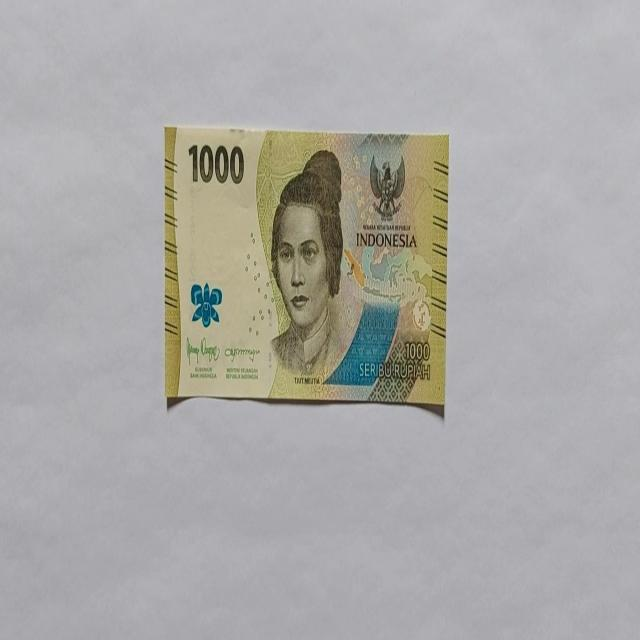seribu rupiah kertas: (164, 125, 448, 412)
